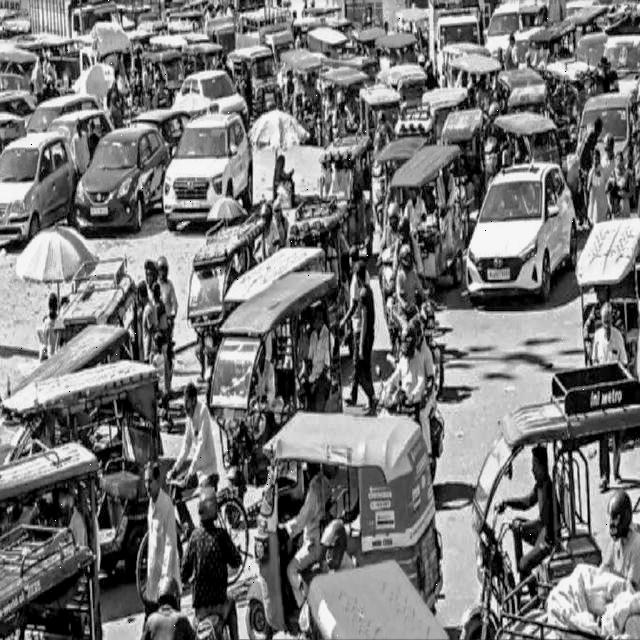Toto: (461, 399, 640, 612), (5, 353, 165, 543), (211, 265, 345, 478), (187, 231, 230, 359)
